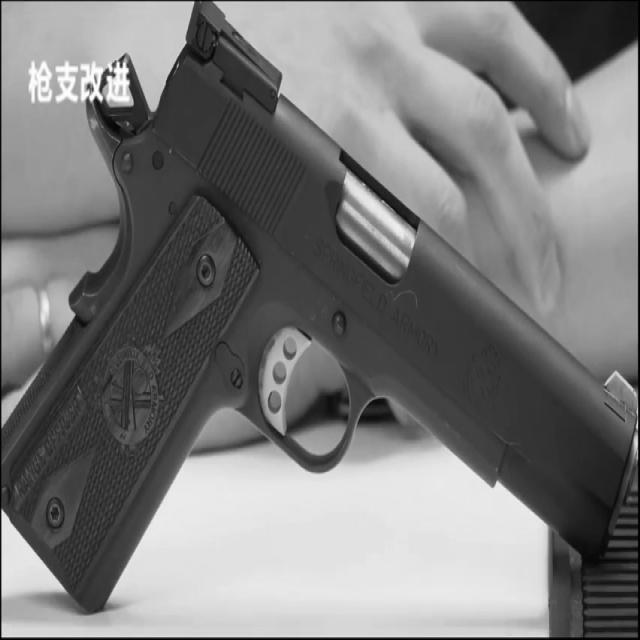Hand-Gun: (6, 9, 626, 606)
